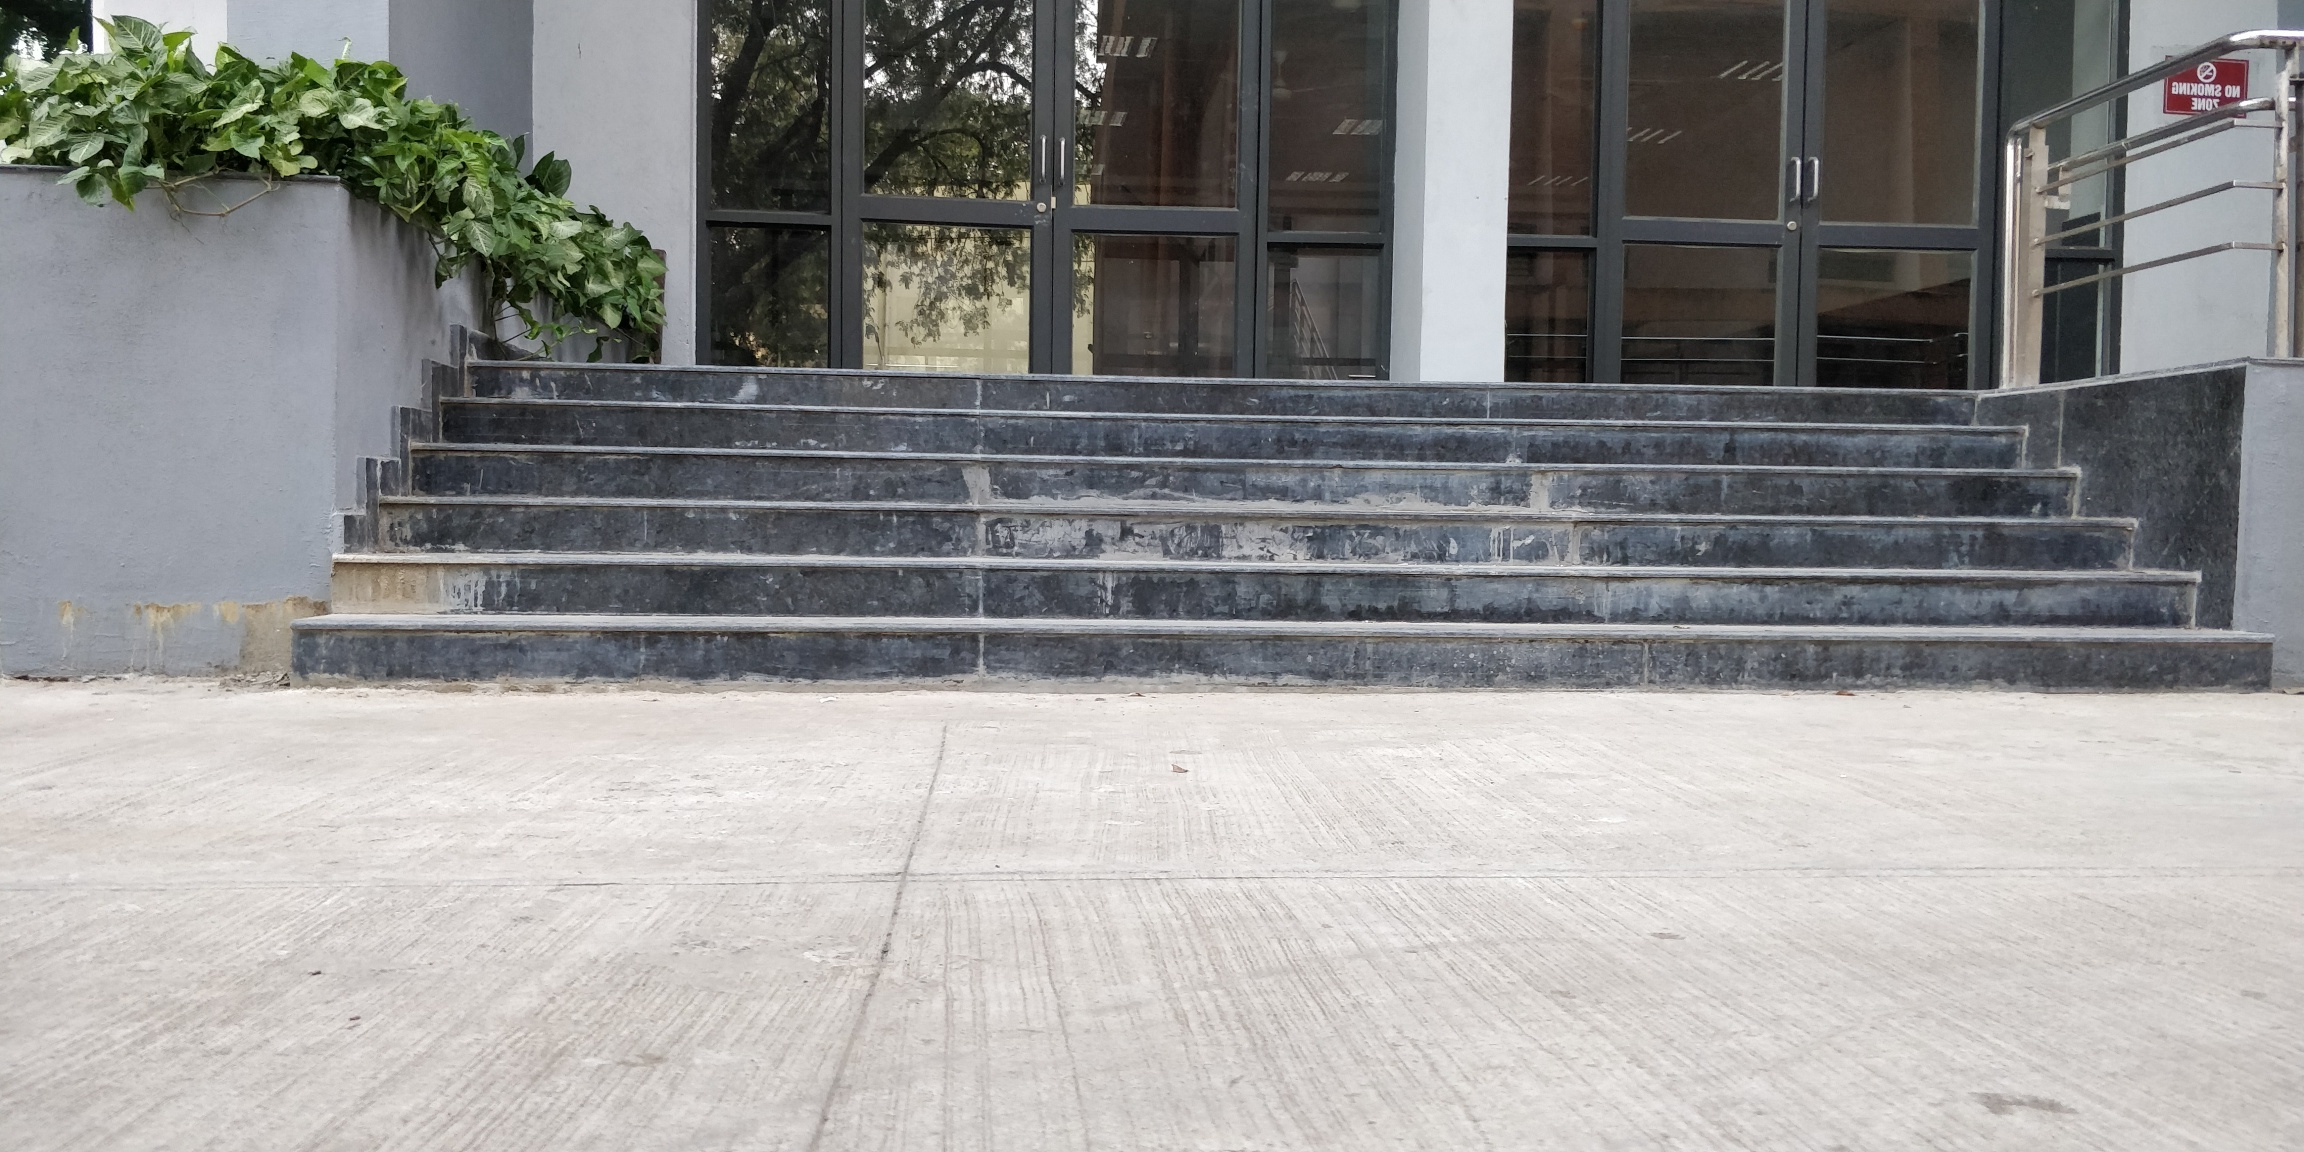stairs_up: (376, 350, 2166, 680)
